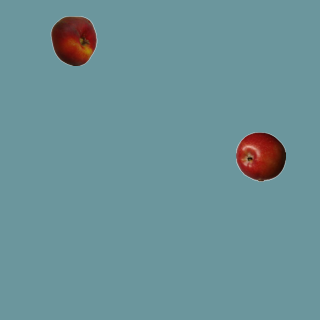Apple Braeburn: (235, 131, 285, 181)
Nectarine Flat: (48, 15, 98, 65)
